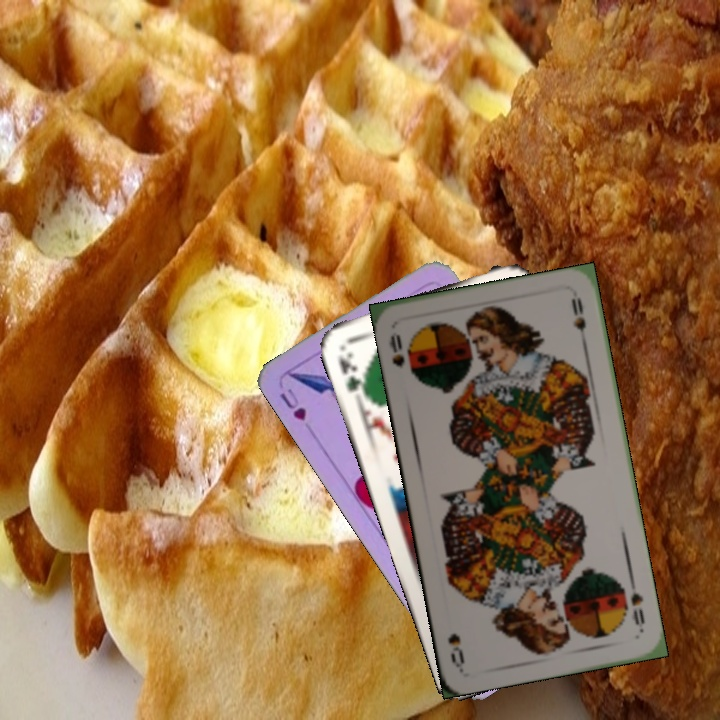GK: (334, 347, 369, 398)
HU: (275, 384, 309, 424)
SO: (626, 575, 647, 628), (385, 328, 407, 370)
